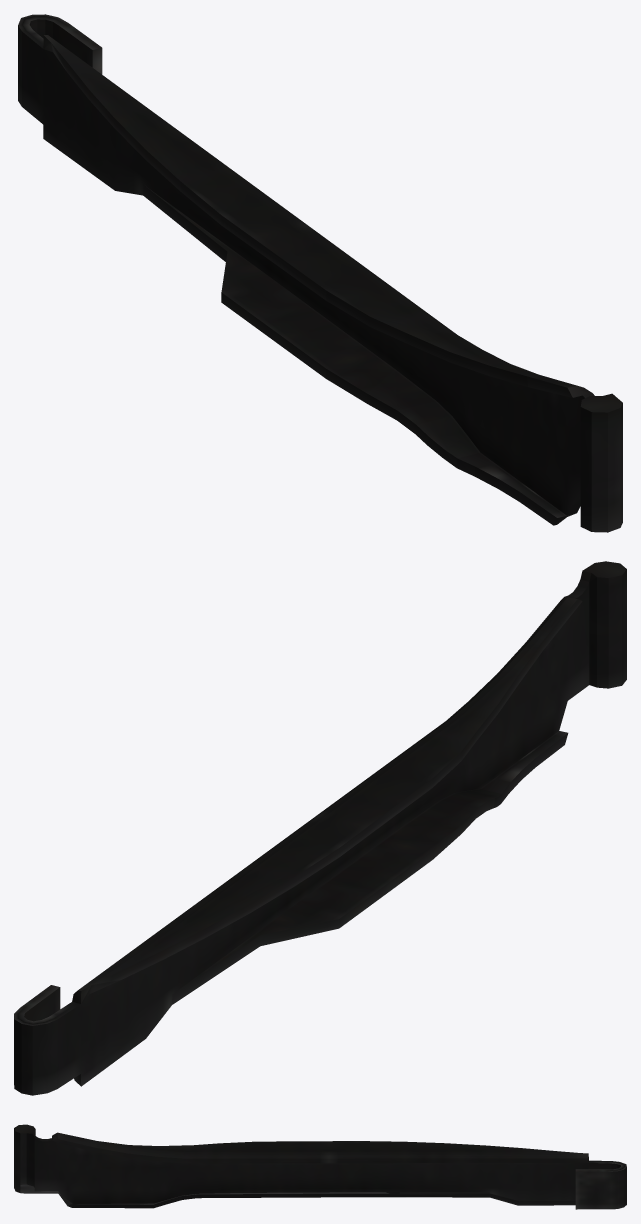
3 renders of one model, top to bottom at view 1: azimuth 30°, elevation 25°; view 2: azimuth 150°, elevation 25°; view 3: azimuth 270°, elevation 25°, orthographic. The views are drawn at different scales.
Visible parts, largest first — view 1: TW_64637076203536ad5600c990_PZ_Import; view 2: TW_64637076203536ad5600c990_PZ_Import; view 3: TW_64637076203536ad5600c990_PZ_Import.
Part boxes in pixels (left/top/right/bottom): TW_64637076203536ad5600c990_PZ_Import: left=18, top=14, right=622, bottom=532; TW_64637076203536ad5600c990_PZ_Import: left=14, top=561, right=626, bottom=1095; TW_64637076203536ad5600c990_PZ_Import: left=14, top=1124, right=626, bottom=1209.
Bounding box in the file's own units: 0.00568 × 0.0623 × 0.00873.
1 material, 1 textured.
